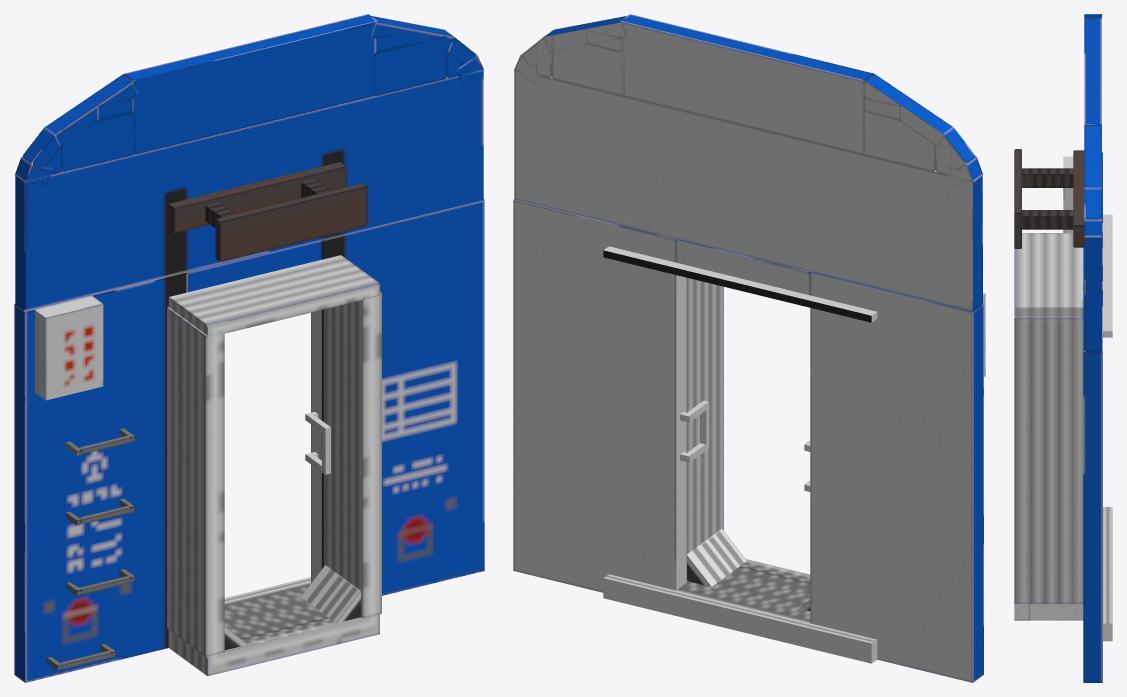
File: end_face_sliding_original_25k_4.obj
The picture shows the model from 3 angles, left to right: view 1: azimuth 30°, elevation 25°; view 2: azimuth 150°, elevation 25°; view 3: azimuth 270°, elevation 25°; orthographic projection. The views are drawn at different scales.
Parts seen in each view (by area): view 1: cube; view 2: cube; view 3: cube.
Boxes of the visible parts, x1=… form: cube: x1=14, y1=14, x2=484, y2=682; cube: x1=513, y1=14, x2=985, y2=682; cube: x1=1014, y1=14, x2=1112, y2=682.
Size of the model in its own units: 3 by 3.58 by 0.625.
